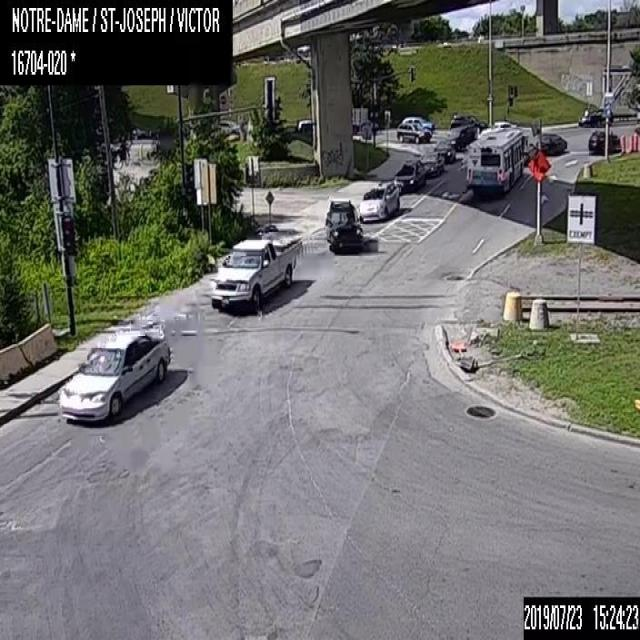bus: (466, 128, 528, 196)
construction: (528, 149, 550, 180), (620, 134, 624, 153), (633, 132, 636, 150), (625, 136, 628, 154), (629, 134, 632, 150), (637, 136, 639, 149)
vehicle: (59, 328, 169, 422), (210, 230, 301, 312), (324, 199, 364, 250), (359, 180, 399, 220), (392, 158, 426, 192), (588, 130, 620, 153), (396, 123, 431, 143), (446, 124, 473, 149), (578, 108, 612, 127), (421, 151, 444, 176), (541, 131, 567, 153), (450, 114, 486, 129), (402, 116, 434, 132), (351, 115, 379, 133), (434, 142, 454, 162), (218, 119, 239, 132), (494, 120, 515, 128), (297, 120, 311, 127)
